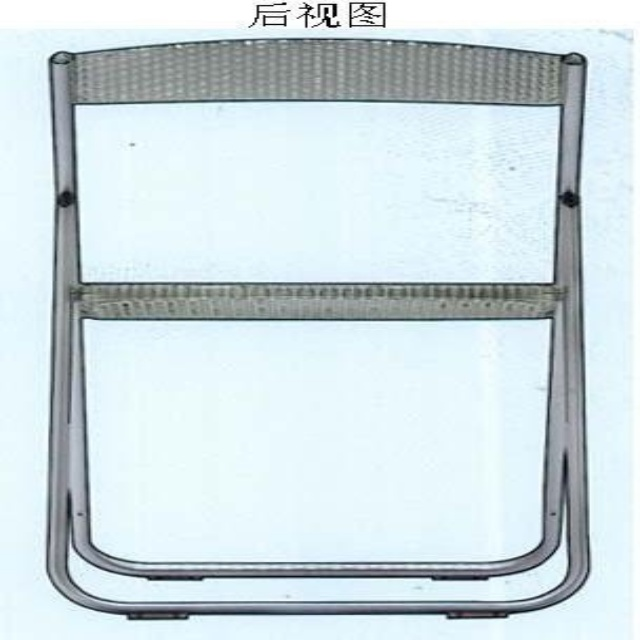obstacle: (48, 39, 587, 617)
